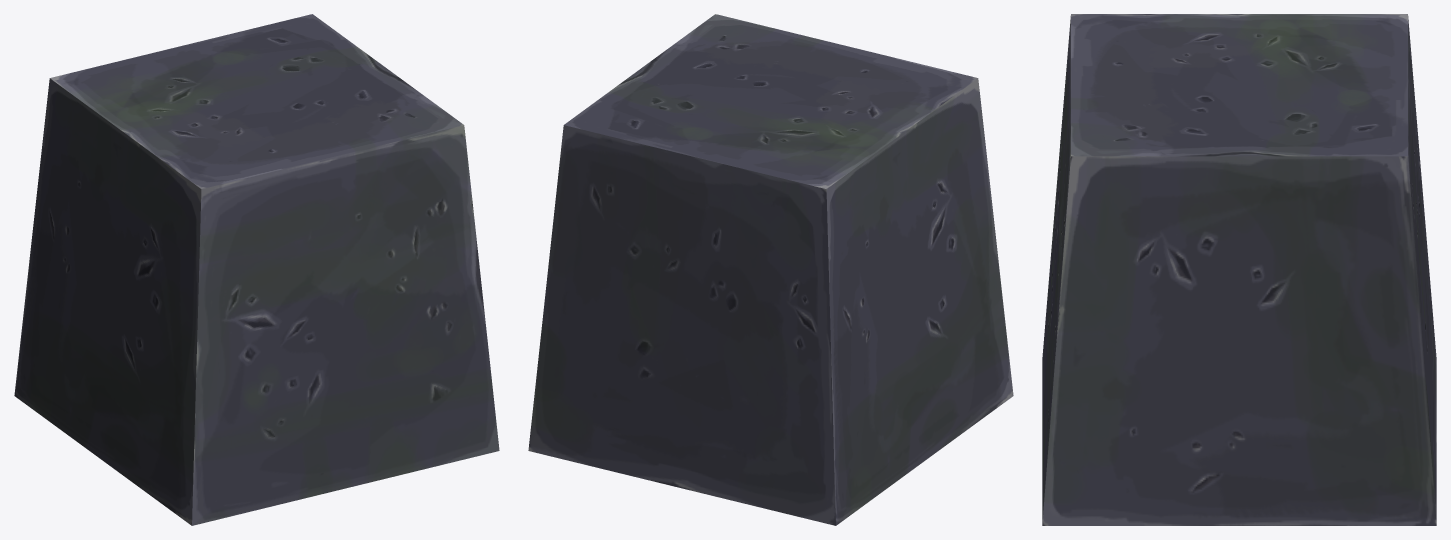
File: MOD_Column_01_block_2.fbx
3 views of the same model, side by side, from view 1: azimuth 30°, elevation 25°; view 2: azimuth 150°, elevation 25°; view 3: azimuth 270°, elevation 25° (orthographic). The views are drawn at different scales.
Parts seen in each view (by area): view 1: MOD_Column_01_block_2; view 2: MOD_Column_01_block_2; view 3: MOD_Column_01_block_2.
Boxes of the visible parts, x1,y1,x2,y2 form: MOD_Column_01_block_2: [14, 14, 499, 525]; MOD_Column_01_block_2: [528, 14, 1013, 525]; MOD_Column_01_block_2: [1042, 14, 1436, 525].
Size of the model in its own units: 100 by 100 by 100.
